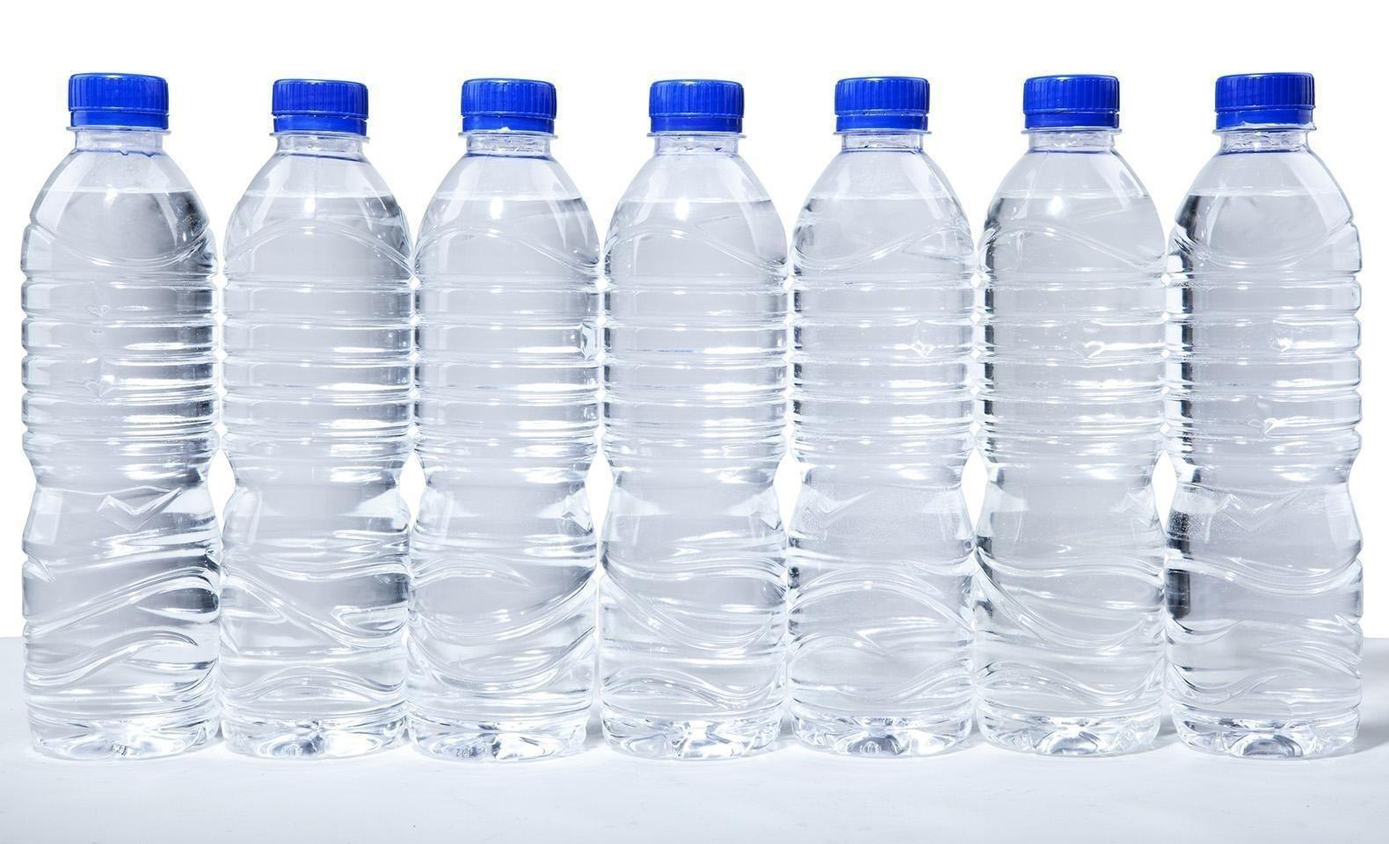bottle-plastic: (11, 62, 227, 769), (1160, 62, 1373, 766), (212, 69, 419, 768), (779, 65, 985, 766), (404, 68, 607, 772), (593, 69, 796, 769), (973, 62, 1174, 763)
